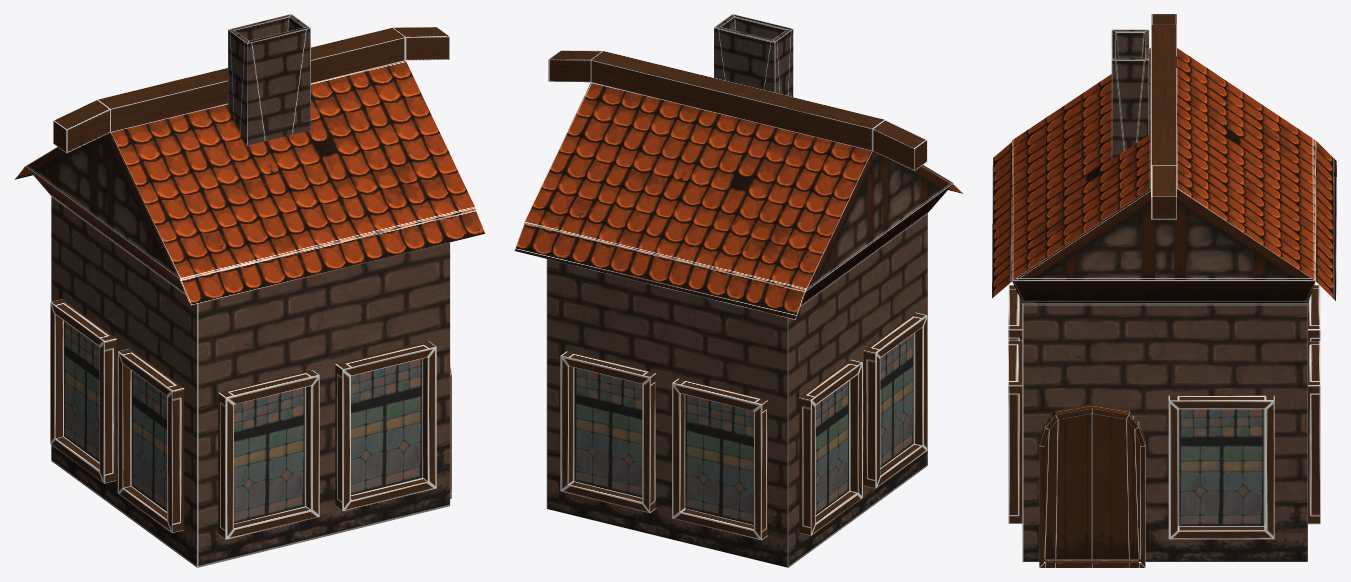
File: Tower_4.fbx
The picture shows the model from 3 angles, left to right: view 1: azimuth 30°, elevation 25°; view 2: azimuth 150°, elevation 25°; view 3: azimuth 270°, elevation 25°; orthographic projection. The views are drawn at different scales.
Parts seen in each view (by area): view 1: Cube.1; view 2: Cube.1; view 3: Cube.1.
Boxes of the visible parts, left/top/right/bottom form: Cube.1: left=14, top=14, right=485, bottom=567; Cube.1: left=514, top=14, right=963, bottom=567; Cube.1: left=992, top=14, right=1336, bottom=567.
Bounding box in the file's own units: 303 × 354 × 241.
Materials: 1 (1 with a texture image).
